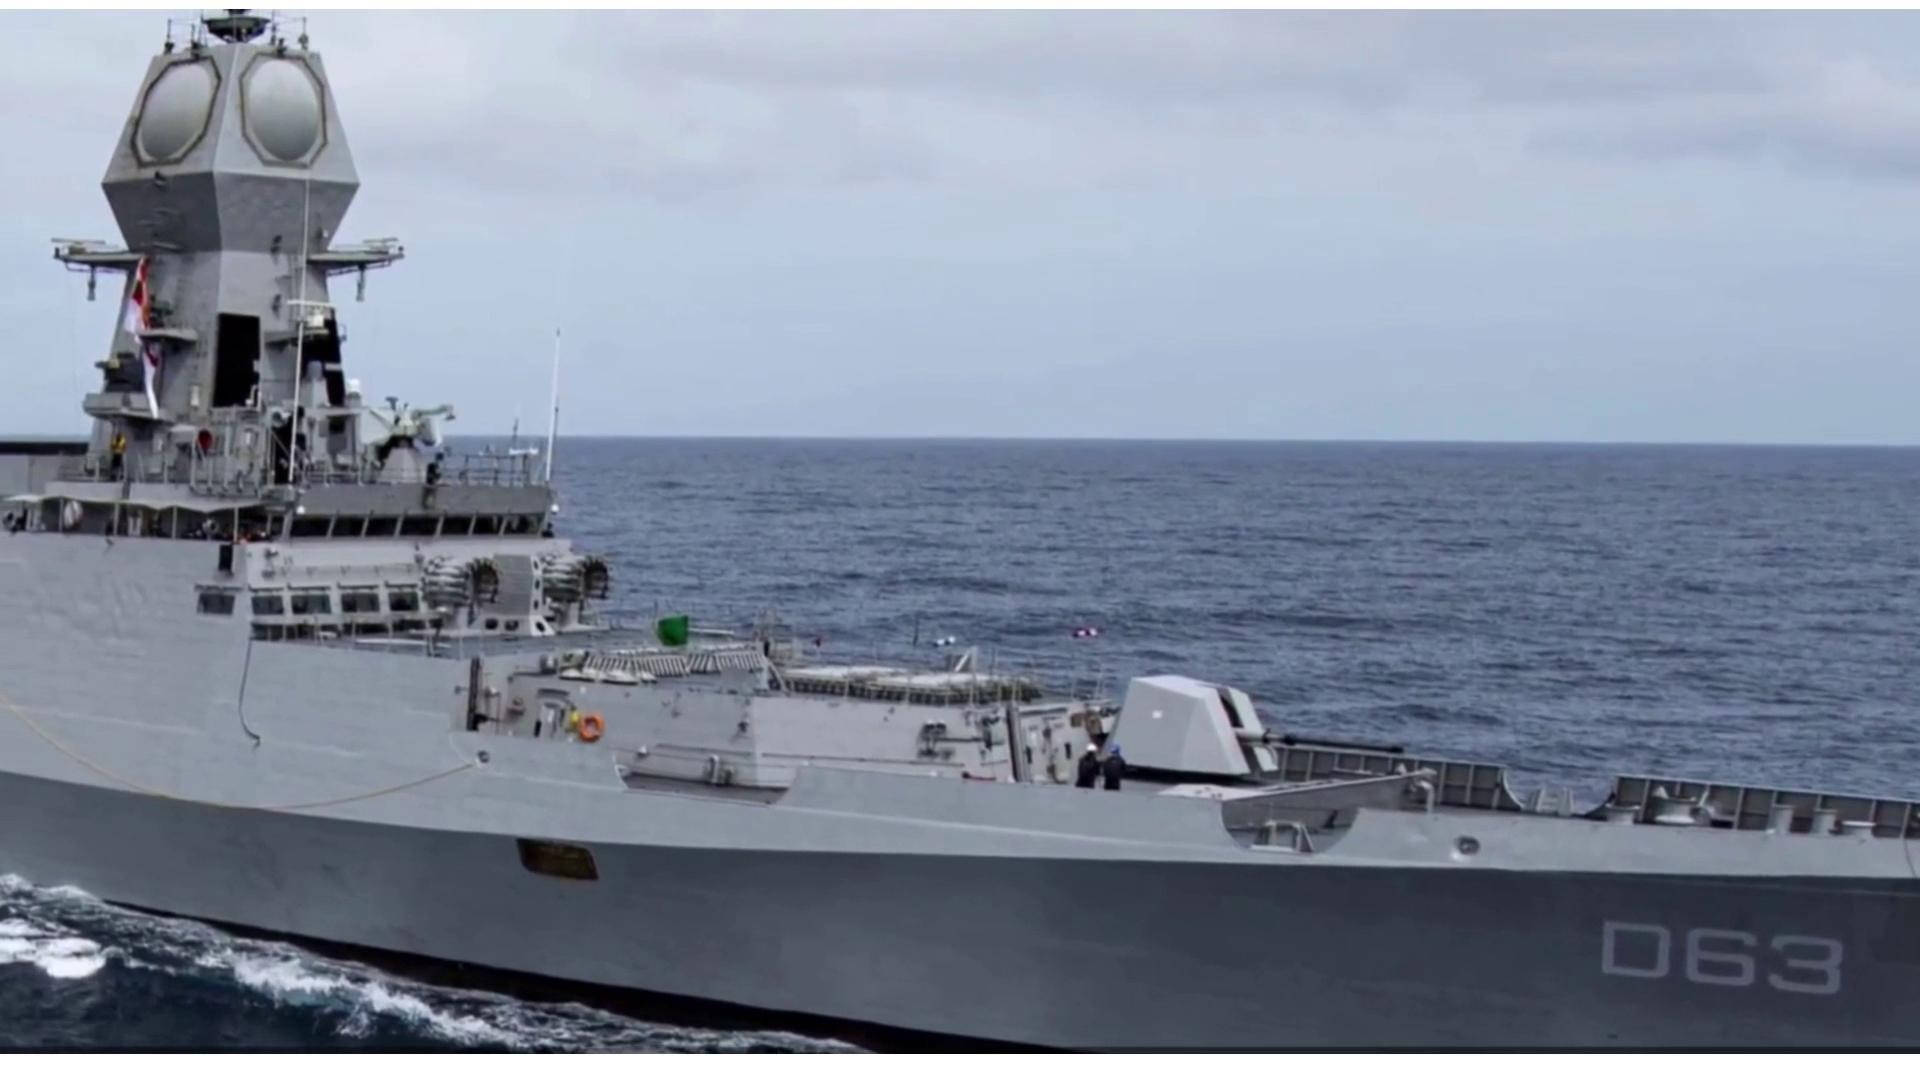OCR: (1589, 912, 1851, 1004)
